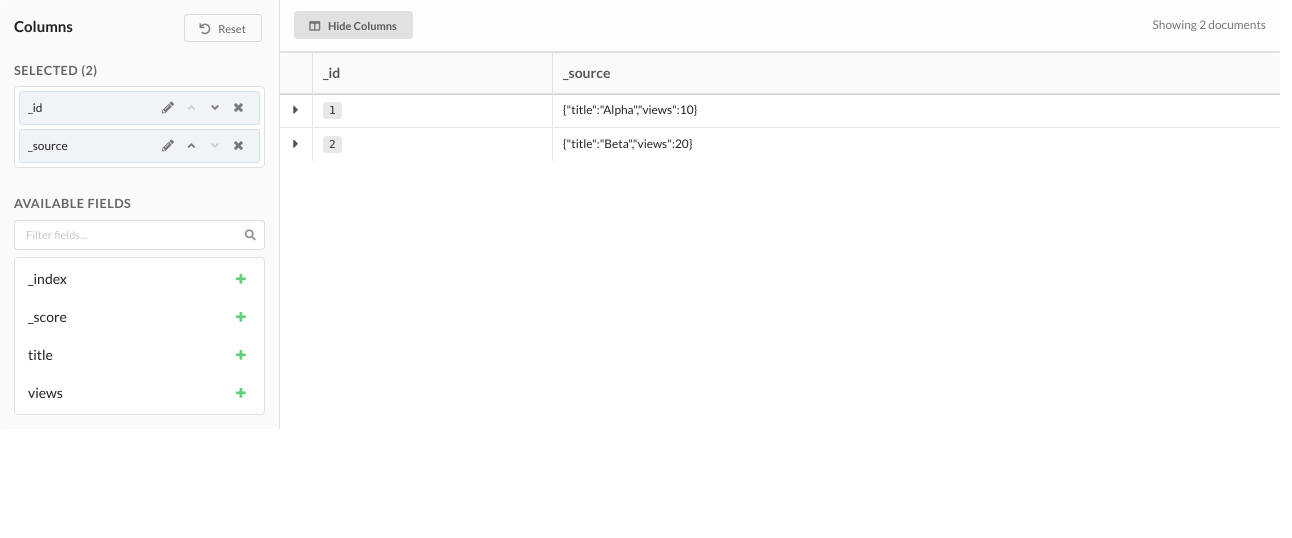
Scenario: ResultsTable › row detail › expands a row and switches to the JSON tab
The image size is (1292, 538).
Click the button named "Expand row" in the row of "{\"title\":\"Alpha\",\"views\":10}" at (296, 110), box [280,96,312,124]
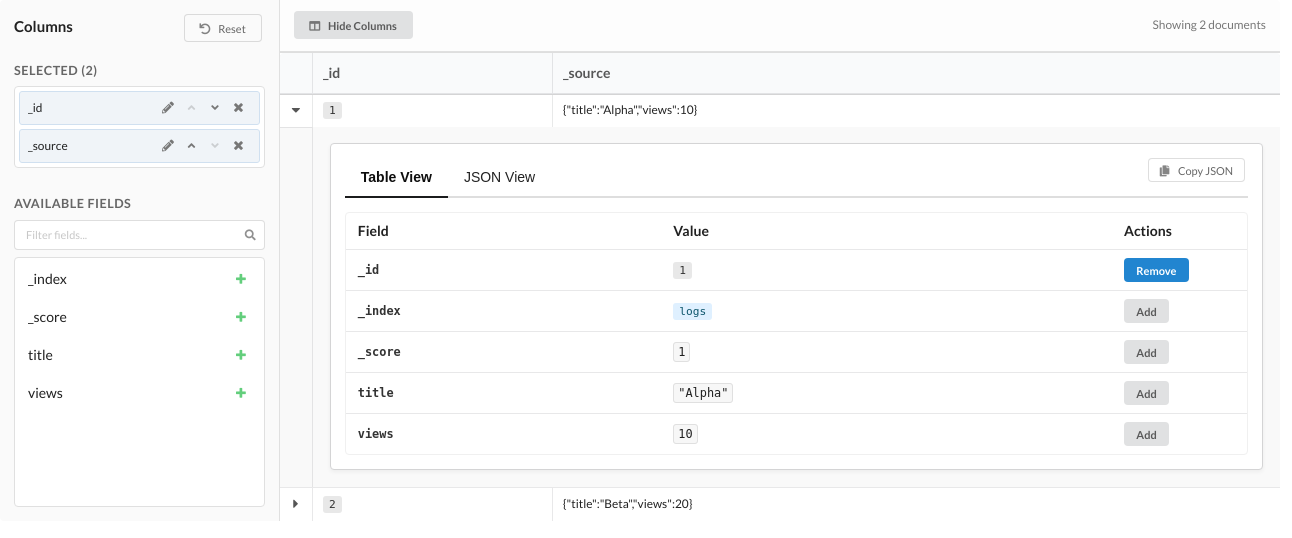
Click the button "JSON View" at (500, 178), box [448,158,551,198]
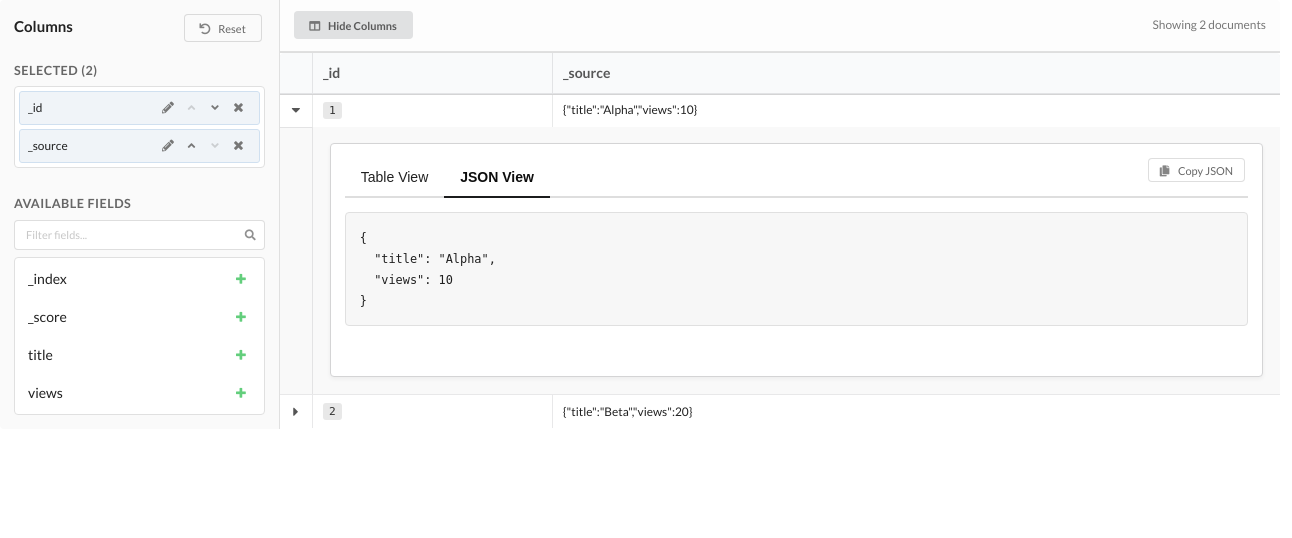
Expected: the text "{ \"title\": \"Alpha\", \"views\": 10 }" is shown, [360,232,496,308]
